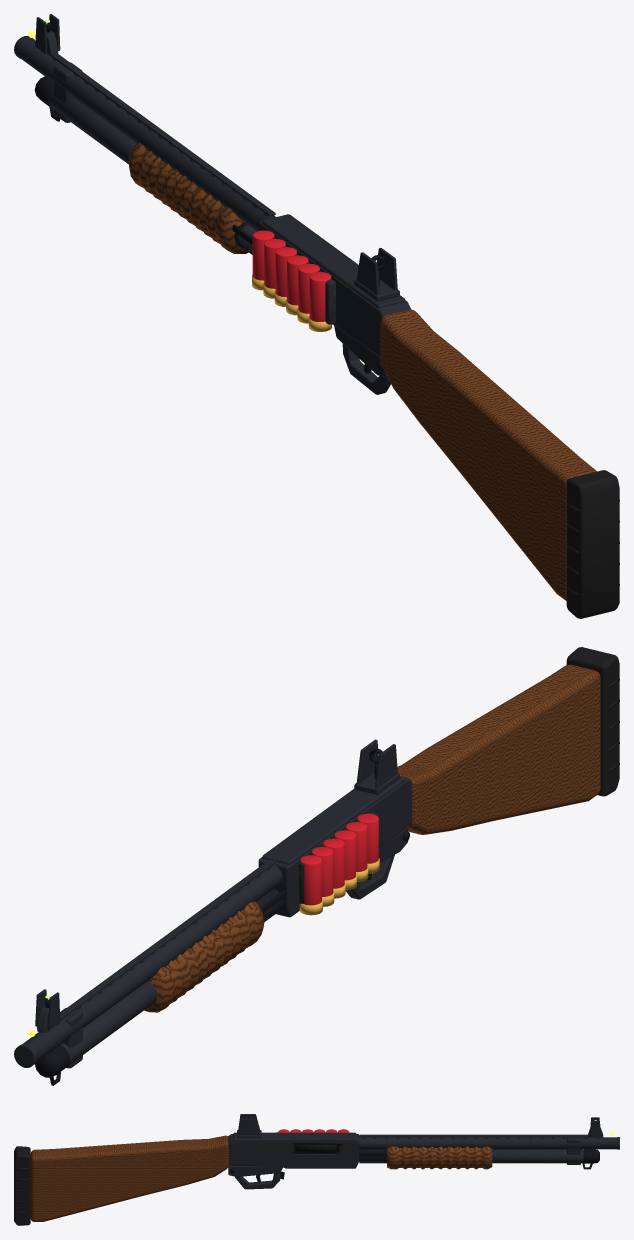
The model's file is w_shotgun.glb.
The picture shows the model from 3 angles, top to bottom: view 1: azimuth 30°, elevation 25°; view 2: azimuth 150°, elevation 25°; view 3: azimuth 270°, elevation 25°; orthographic projection. The views are drawn at different scales.
Visible parts, largest first — view 1: sg_body_wzA, sg_body_wzB, sg_body_wzN, pump_wzA; view 2: sg_body_wzA, sg_body_wzB, sg_body_wzN, pump_wzA; view 3: sg_body_wzA, sg_body_wzB, pump_wzA, sg_body_wzN.
Boxes of the visible parts, bbox=[...] form: sg_body_wzA: bbox=[380, 309, 619, 618]; sg_body_wzB: bbox=[14, 14, 411, 394]; sg_body_wzN: bbox=[28, 19, 335, 331]; pump_wzA: bbox=[128, 143, 252, 253]; sg_body_wzA: bbox=[397, 647, 619, 834]; sg_body_wzB: bbox=[14, 739, 411, 1085]; sg_body_wzN: bbox=[28, 812, 379, 1036]; pump_wzA: bbox=[144, 890, 286, 1012]; sg_body_wzA: bbox=[14, 1135, 228, 1225]; sg_body_wzB: bbox=[228, 1114, 619, 1189]; pump_wzA: bbox=[294, 1146, 492, 1169]; sg_body_wzN: bbox=[276, 1120, 614, 1135].
Size of the model in its own units: 0.0629 by 0.2191 by 1.15.
Materials: 11 (3 with a texture image).
